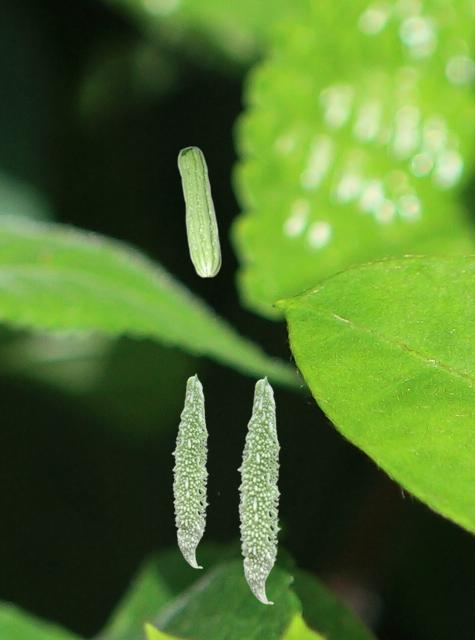ampalaya: (235, 373, 282, 605), (169, 371, 210, 568), (177, 144, 223, 279)
